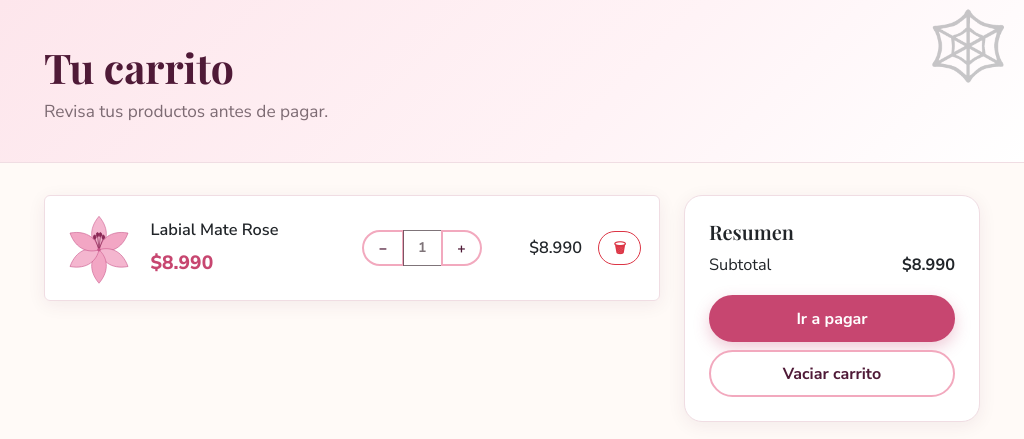
Scenario: Carrito › muestra el mensaje de carrito vacío al eliminar el producto
Click the button "🗑" at x=620, y=248, box [598,231,641,265]
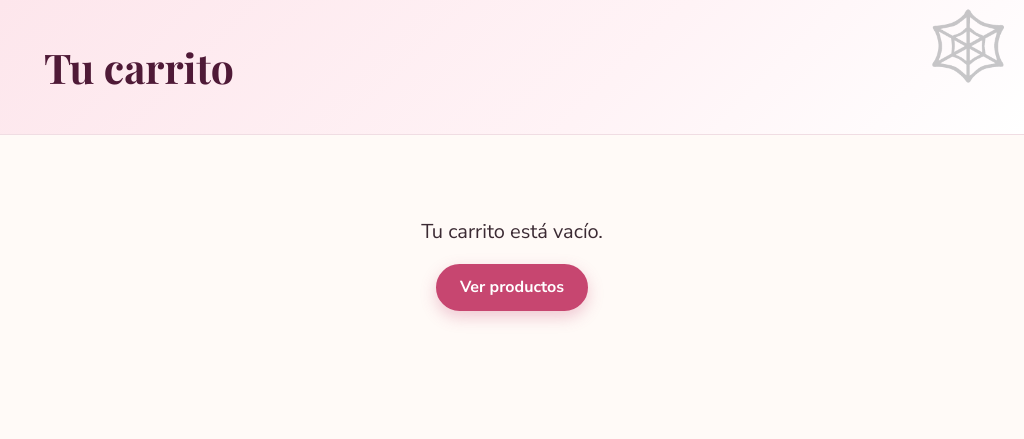
Expected: the text "Tu carrito está vacío" is shown, [421,218,603,245]
